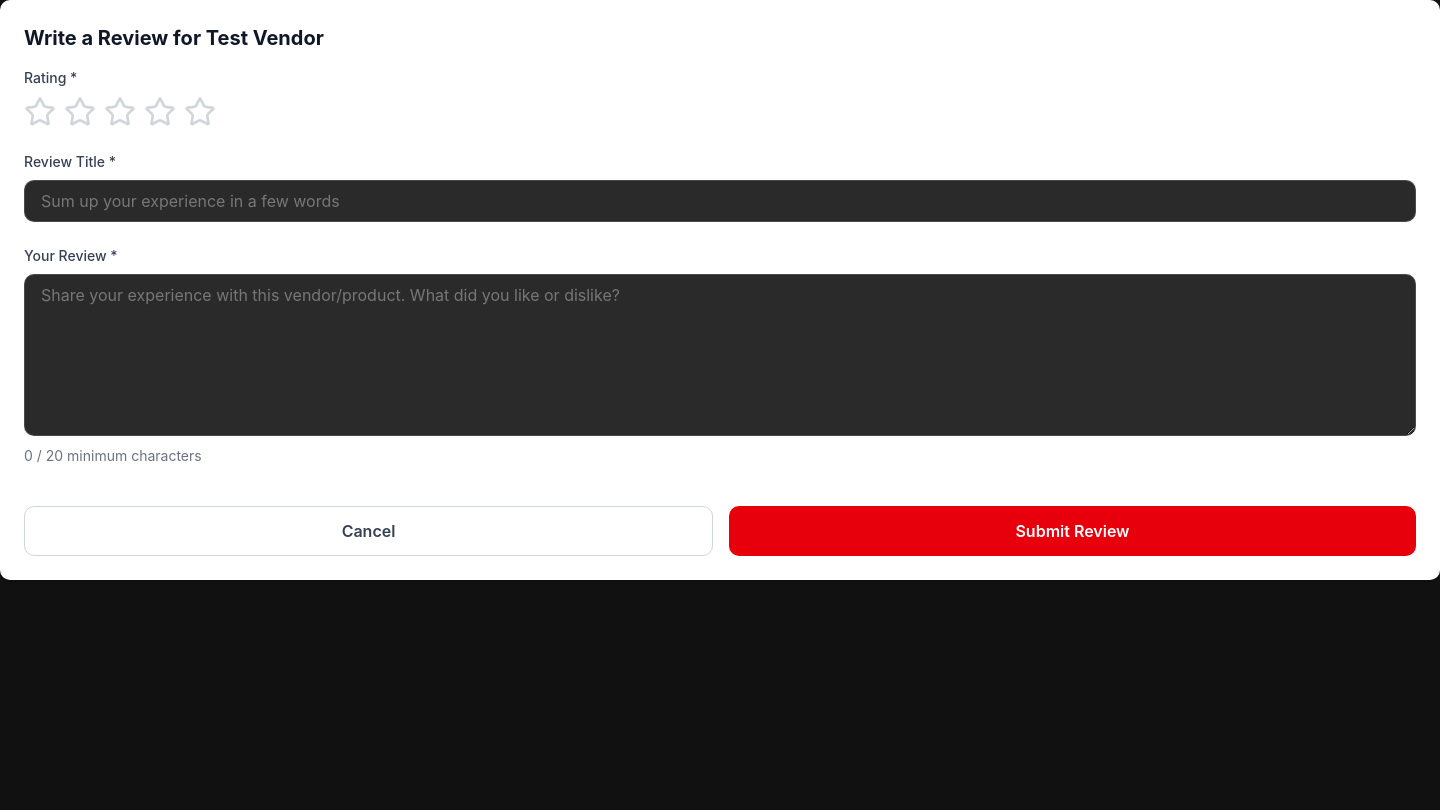
Test: ReviewForm › should show validation error for short title
Type "Hi" into the field labelled "Review Title *".
click(720, 201); type("Hi")  # box left=24, top=180, right=1416, bottom=222
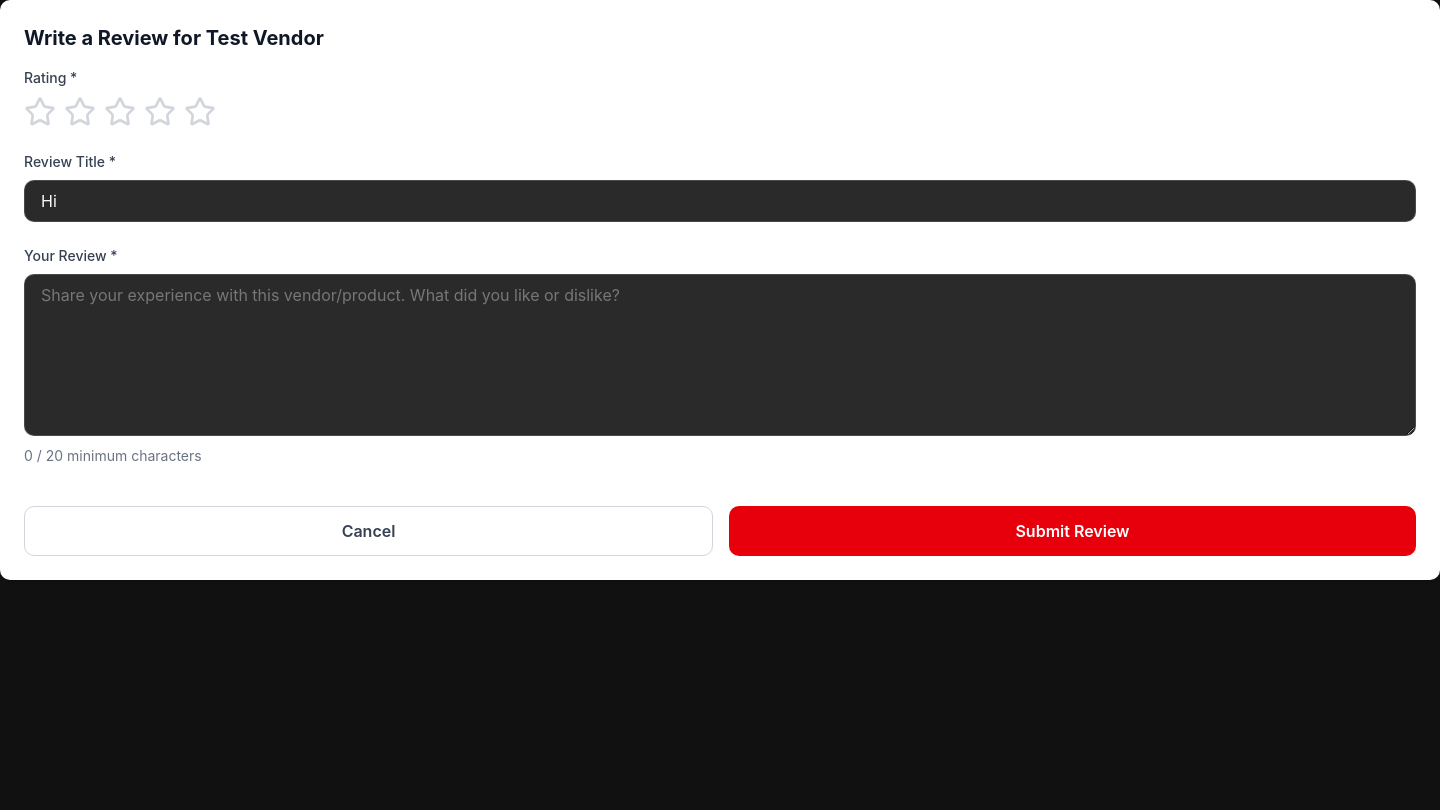
Click the button "Submit Review".
click(1072, 531)  # box left=729, top=506, right=1416, bottom=556
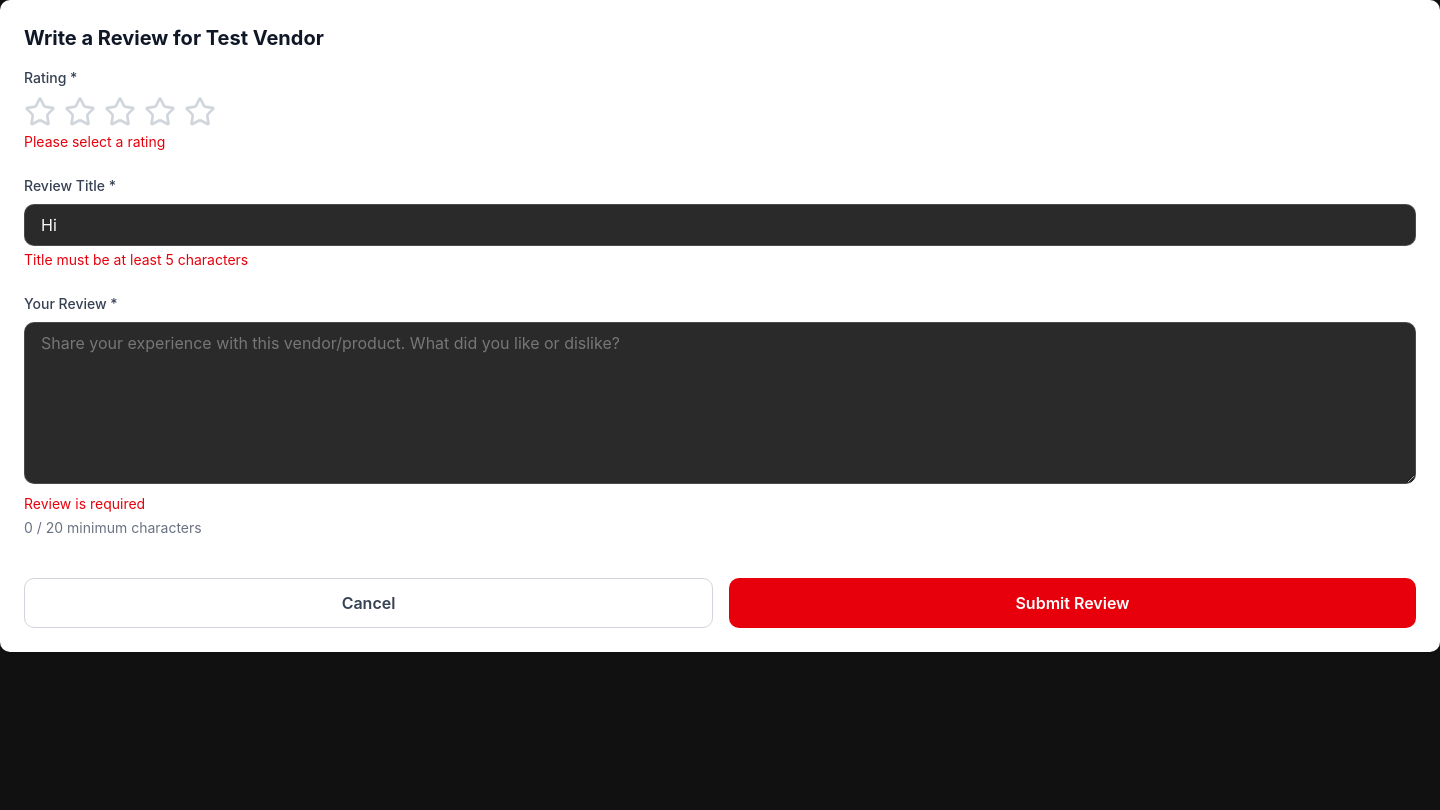
Result: the text "Title must be at least 5 characters" is shown at left=24, top=251, right=248, bottom=268
